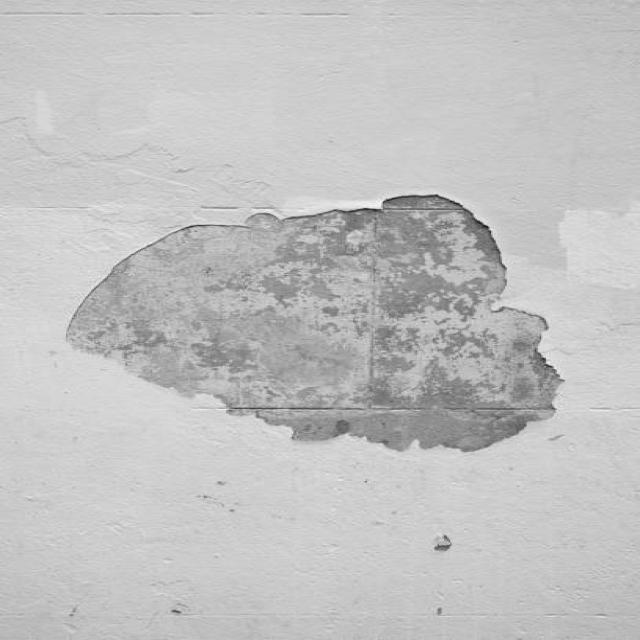peeling paint: (41, 173, 640, 468)
